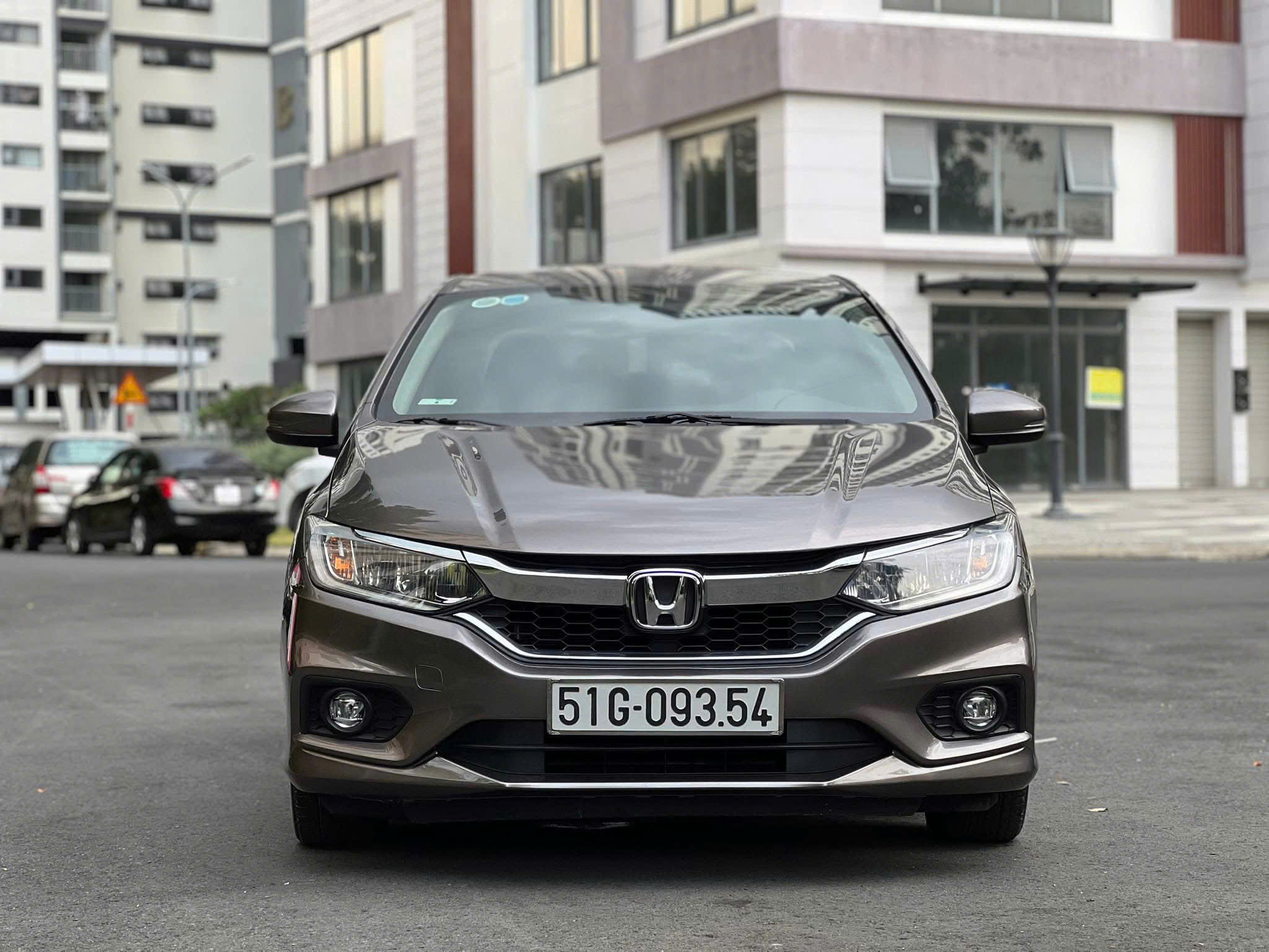Bien-so: (551, 675, 778, 736)
